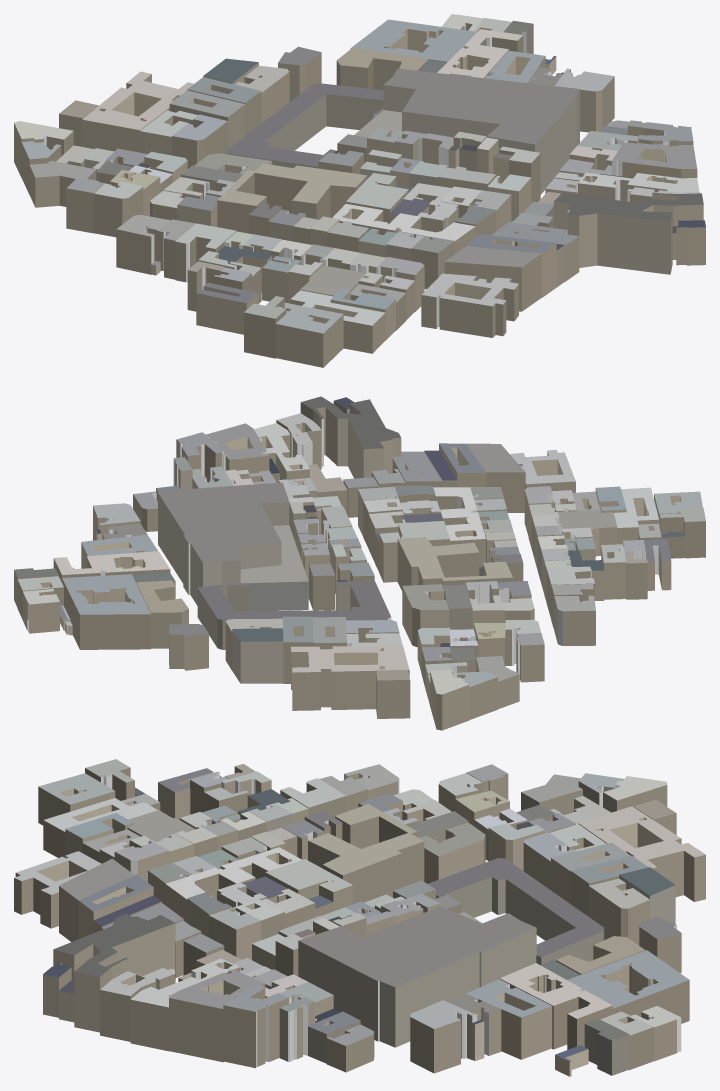
3 views of the same model, one above another, from view 1: azimuth 30°, elevation 25°; view 2: azimuth 150°, elevation 25°; view 3: azimuth 270°, elevation 25° (orthographic). The views are drawn at different scales.
Visible parts, largest first — view 1: tuile; view 2: tuile; view 3: tuile.
Part boxes in pixels (box(x1,y1,x2,y2)): tuile: box(14, 14, 705, 367); tuile: box(14, 396, 705, 730); tuile: box(14, 759, 705, 1076).
Size of the model in its own units: 268 by 29.65 by 285.
